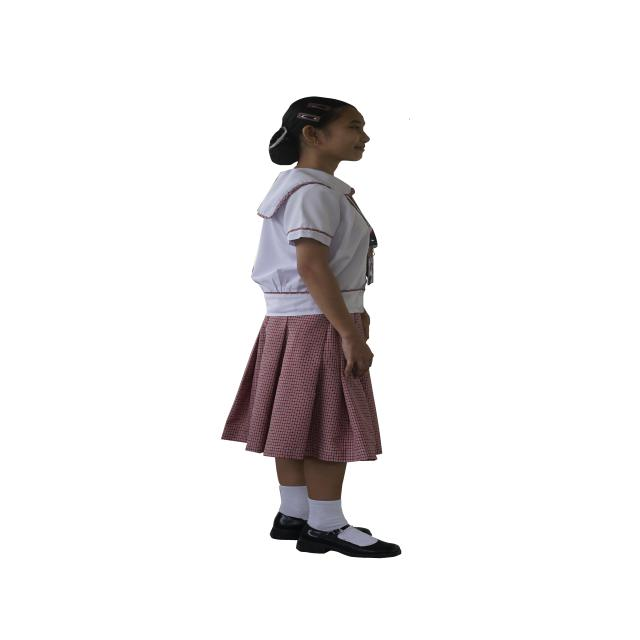pologirl: (251, 169, 377, 316)
shoes: (270, 512, 401, 559)
skirt: (223, 315, 382, 462)
